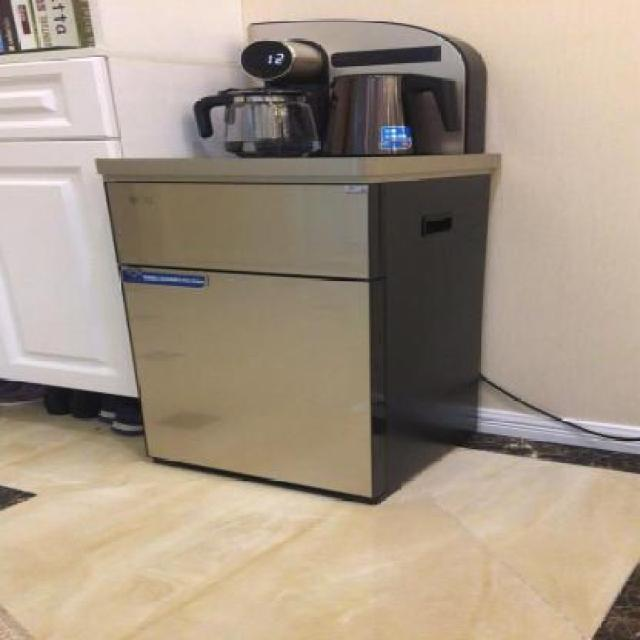cooler: (105, 19, 542, 516)
